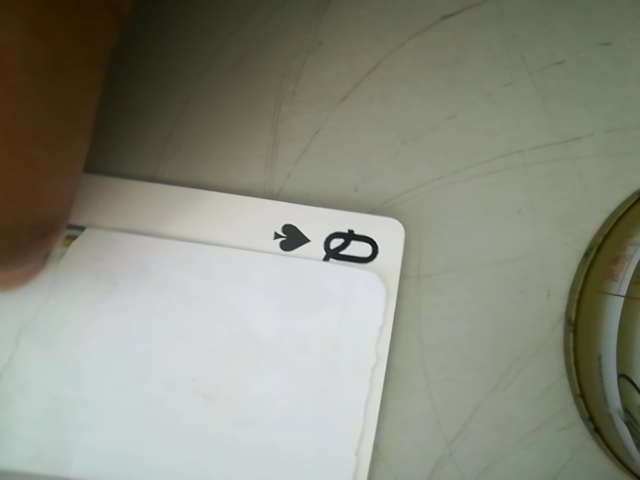ht q: (267, 214, 398, 271)
